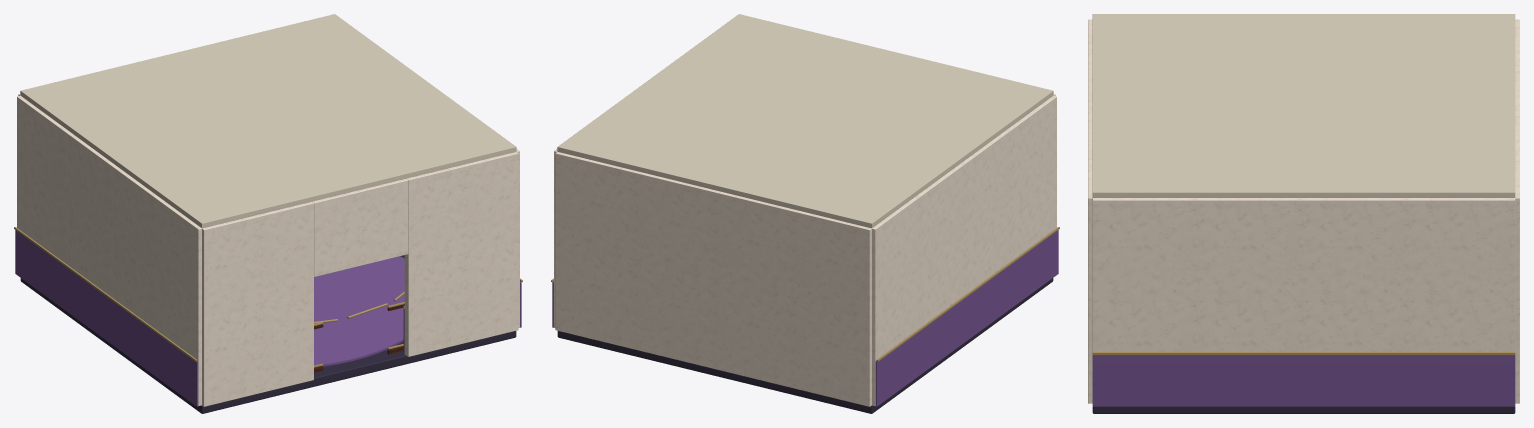
The model's file is trial_elevator.glb.
3 renders of one model, left to right at view 1: azimuth 30°, elevation 25°; view 2: azimuth 150°, elevation 25°; view 3: azimuth 270°, elevation 25°, orthographic. The views are drawn at different scales.
Parts seen in each view (by area): view 1: ceiling.051, wall.139, wall.136, wall.137, lower_panel.138, cabin_floor, door_lintel.035, trial_elevator_floor, panel_rail.138; view 2: ceiling.051, wall.138, wall.139, lower_panel.138, trial_elevator_floor, panel_rail.138; view 3: ceiling.051, wall.140, lower_panel.139, trial_elevator_floor, wall.138, wall.136, panel_rail.139.
Part boxes in pixels (x1,y1,x2,y2): ceiling.051: (20,14,516,228); wall.139: (17,95,201,406); wall.136: (404,152,518,356); wall.137: (202,201,313,406); lower_panel.138: (15,230,198,406); cabin_floor: (314,256,404,366); door_lintel.035: (312,179,408,276); trial_elevator_floor: (20,255,516,413); panel_rail.138: (14,227,197,361); ceiling.051: (557,14,1053,228); wall.138: (555,152,871,406); wall.139: (872,95,1056,406); lower_panel.138: (875,230,1058,406); trial_elevator_floor: (557,278,1053,413); panel_rail.138: (876,227,1059,361); ceiling.051: (1092,14,1515,197); wall.140: (1092,198,1515,351); lower_panel.139: (1092,355,1515,406); trial_elevator_floor: (1092,406,1515,413); wall.138: (1515,19,1519,403); wall.136: (1088,136,1092,403); panel_rail.139: (1092,352,1515,354).
Bounding box in the file's own units: 8.32 × 4.64 × 8.18.
Materials: 7 (2 with a texture image).
